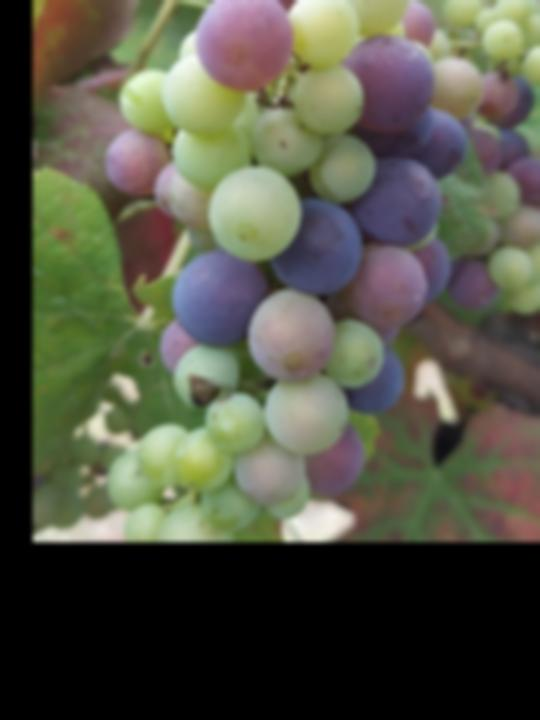grape: (101, 0, 472, 594)
